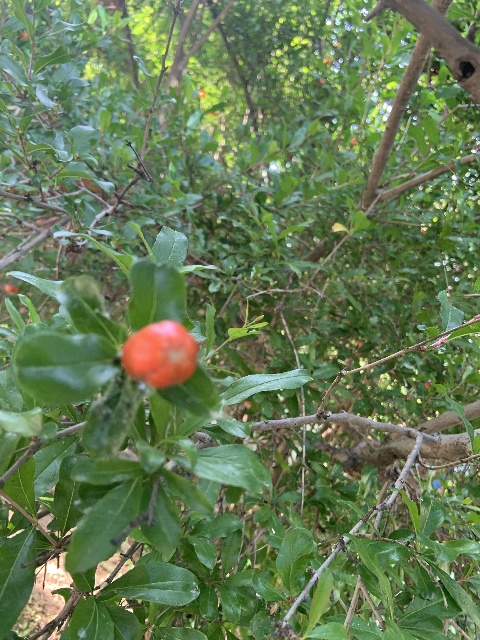bud: (121, 319, 198, 390)
